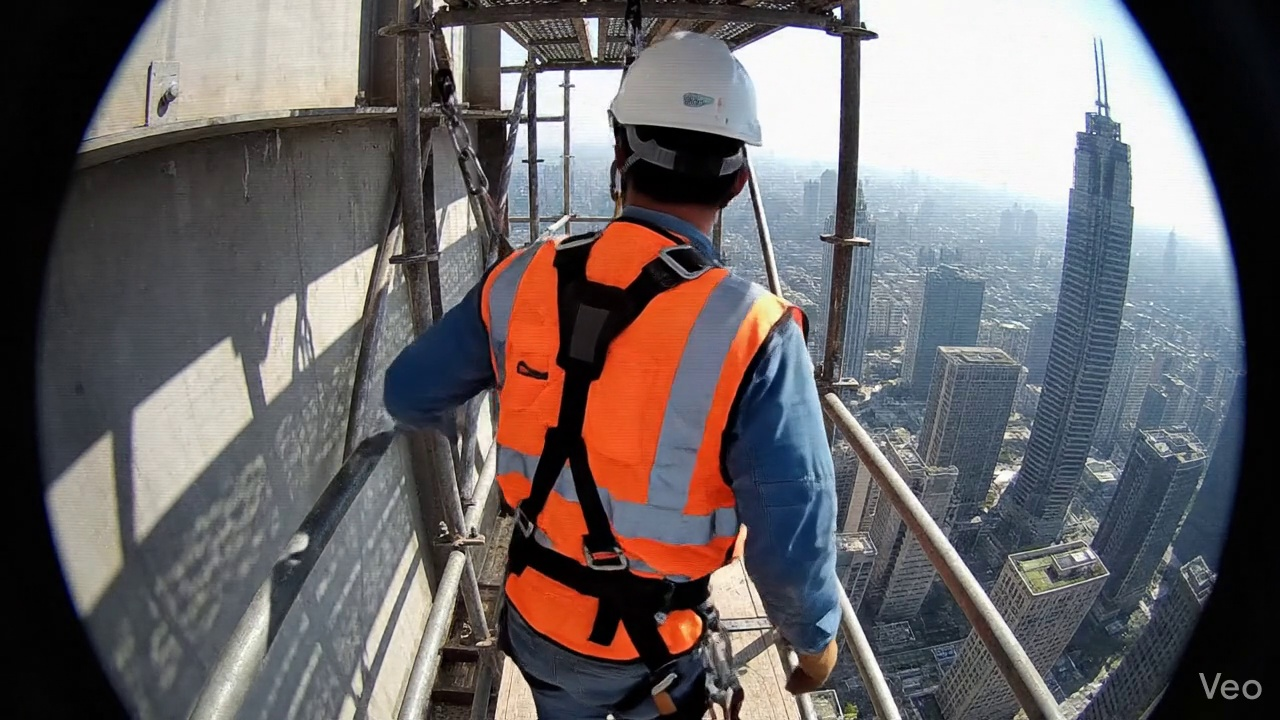person: (384, 32, 840, 719)
